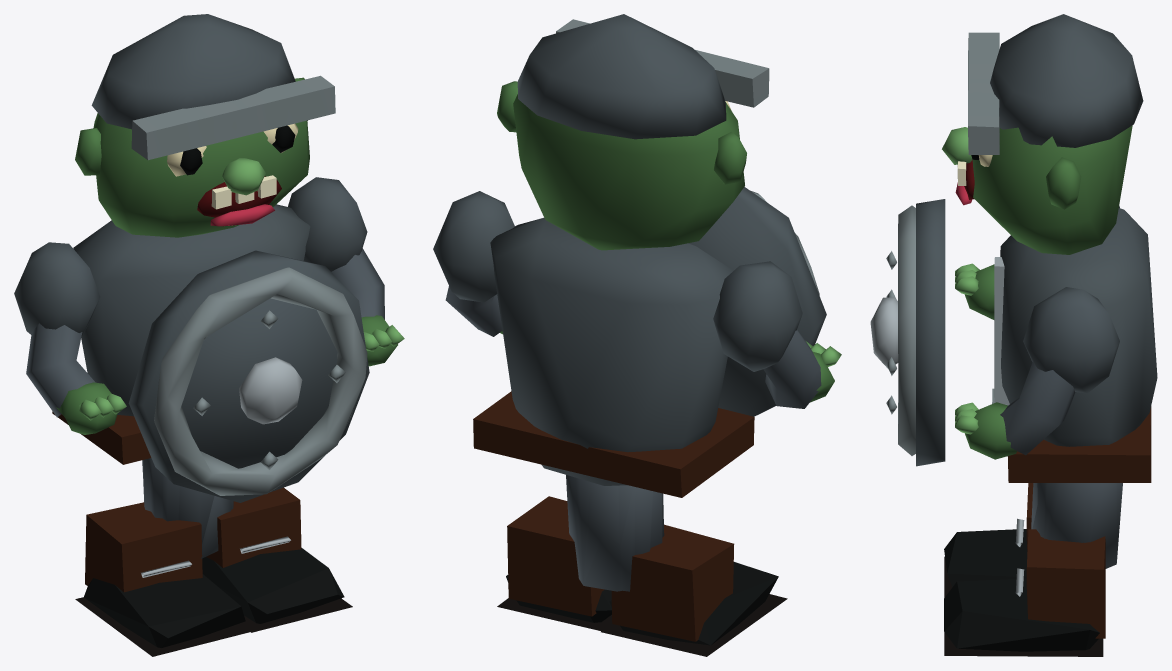
Rendered from shield-lod.glb.
3 renders of one model, left to right at view 1: azimuth 30°, elevation 25°; view 2: azimuth 150°, elevation 25°; view 3: azimuth 270°, elevation 25°, orthographic. The views are drawn at different scales.
Visible parts, largest first — view 1: Arms, Head, LegL, Body, LegR; view 2: Body, Head, Arms, LegL, LegR; view 3: Head, Arms, Body, LegR, LegL.
Part boxes in pixels (x1,y1,x2,y2): Arms: (14, 177, 404, 502); Head: (75, 14, 335, 237); LegL: (75, 458, 253, 656); Body: (52, 204, 310, 464); LegR: (142, 458, 352, 632); Body: (473, 217, 754, 497); Head: (497, 14, 769, 250); Arms: (433, 187, 841, 416); LegL: (566, 475, 787, 656); LegR: (497, 475, 662, 631); Head: (942, 14, 1143, 254); Arms: (870, 199, 1119, 466); Body: (992, 208, 1157, 482); LegR: (944, 483, 1117, 656); LegL: (944, 483, 1122, 597).
Bounding box in the file's own units: 0.7829 × 1.22 × 0.5396.
Materials: 1 (1 with a texture image).
